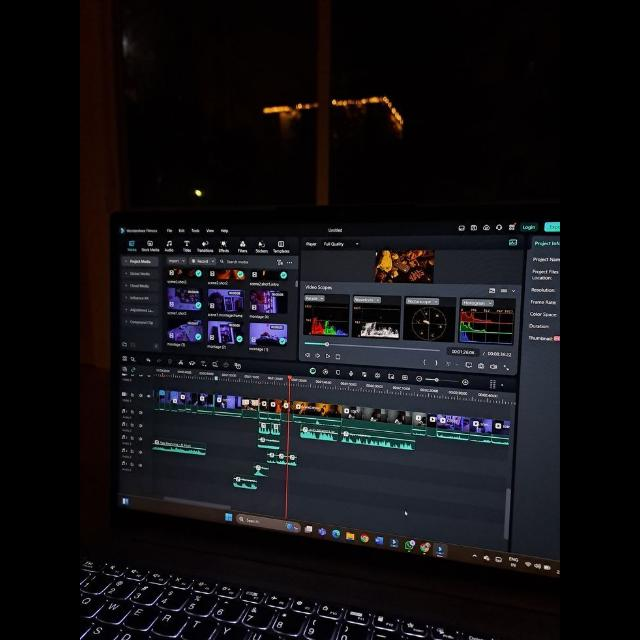laptop: (110, 194, 560, 640)
